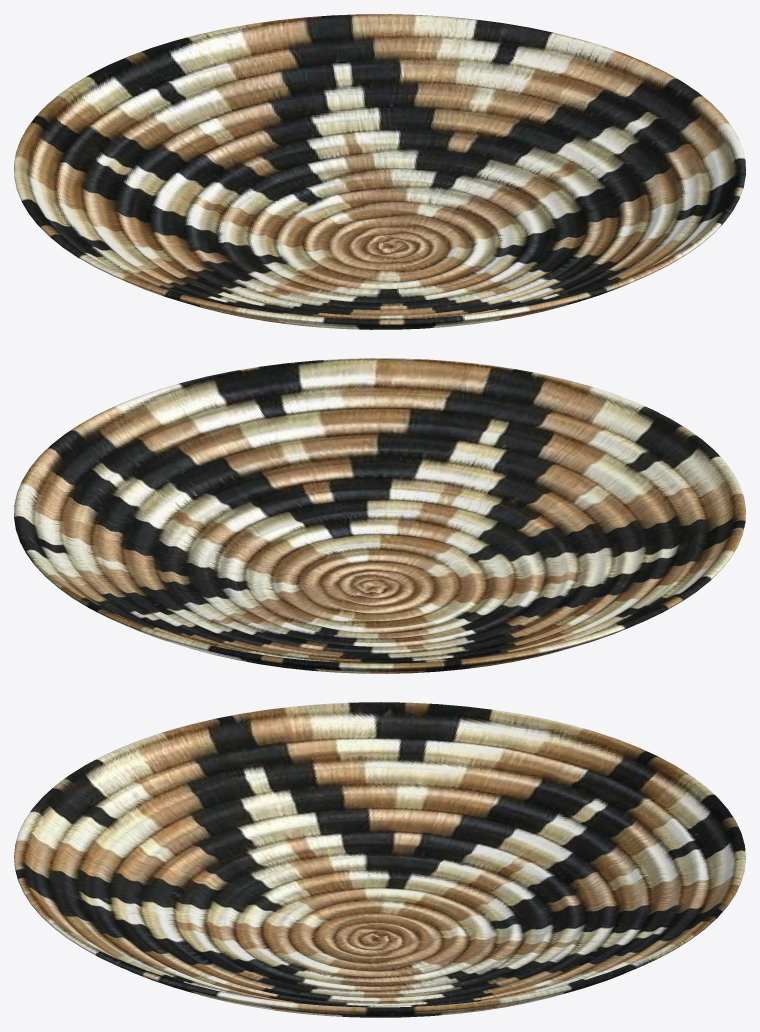
Rendered from sefed-8-.003.fbx.
The picture shows the model from 3 angles, top to bottom: view 1: azimuth 30°, elevation 25°; view 2: azimuth 150°, elevation 25°; view 3: azimuth 270°, elevation 25°; orthographic projection.
Parts seen in each view (by area): view 1: sefed-8-.003; view 2: sefed-8-.003; view 3: sefed-8-.003.
Part boxes in pixels (left/top/right/bottom): sefed-8-.003: left=14, top=14, right=745, bottom=329; sefed-8-.003: left=14, top=358, right=745, bottom=673; sefed-8-.003: left=14, top=702, right=745, bottom=1017.
Bounding box in the file's own units: 39.64 × 5.09 × 39.64.
1 material, 1 textured.
